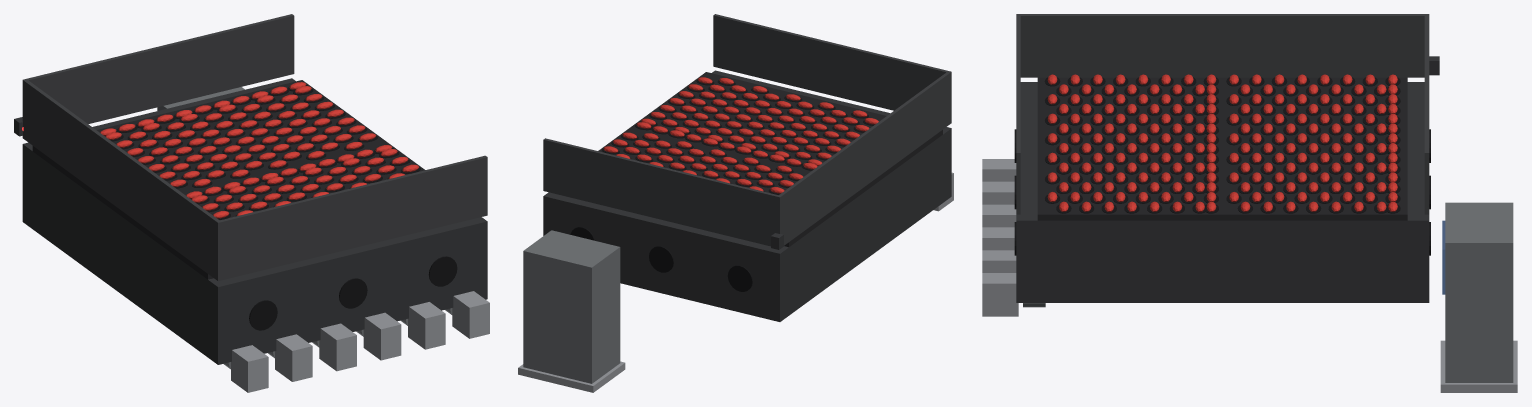
The model's file is varioroute_vr1600.glb.
The picture shows the model from 3 angles, left to right: view 1: azimuth 30°, elevation 25°; view 2: azimuth 150°, elevation 25°; view 3: azimuth 270°, elevation 25°; orthographic projection. The views are drawn at different scales.
Visible parts, largest first — view 1: VR1600_Body, VR1600_Guard_Right, VR1600_Guard_Left, VR1600_Guard_Infeed, VR1600_Deck_B, VR1600_Deck_A, VR1600_Motor.003, VR1600_Motor.002, VR1600_Motor.004, VR1600_Motor.005, VR1600_Motor.001, VR1600_Motor (+3 smaller); view 2: VR1600_Body, VR1600_Cabinet_Body, VR1600_Guard_Left, VR1600_Guard_Right, VR1600_Guard_Infeed, VR1600_Deck_A, VR1600_Deck_B, VR1600_Cabinet_Base, VR1600_Vent_+1, VR1600_Vent_+0; view 3: VR1600_Body, VR1600_Guard_Infeed, VR1600_Deck_A, VR1600_Deck_B, VR1600_Cabinet_Body, VR1600_Motor.005, VR1600_Cabinet_Base, VR1600_Guard_Left, VR1600_Guard_Right, VR1600_Motor.002, VR1600_Motor.004, VR1600_Motor.001 (+2 smaller).
Part boxes in pixels (box(x1,y1,x2,y2)): VR1600_Body: box(22, 78, 487, 364); VR1600_Guard_Right: box(216, 155, 487, 280); VR1600_Guard_Left: box(23, 14, 294, 123); VR1600_Guard_Infeed: box(22, 80, 221, 281); VR1600_Deck_B: box(32, 80, 390, 216); VR1600_Deck_A: box(118, 145, 425, 279); VR1600_Motor.003: box(363, 312, 401, 360); VR1600_Motor.002: box(319, 323, 356, 371); VR1600_Motor.004: box(408, 302, 445, 349); VR1600_Motor.005: box(452, 291, 489, 338); VR1600_Motor.001: box(275, 334, 312, 381); VR1600_Motor: box(231, 345, 268, 392); VR1600_Body: box(543, 70, 951, 321); VR1600_Cabinet_Body: box(523, 230, 620, 383); VR1600_Guard_Left: box(543, 138, 781, 246); VR1600_Guard_Right: box(713, 14, 951, 123); VR1600_Guard_Infeed: box(777, 71, 951, 245); VR1600_Deck_A: box(628, 72, 942, 189); VR1600_Deck_B: box(598, 129, 867, 247); VR1600_Cabinet_Base: box(518, 361, 625, 392); VR1600_Vent_+1: box(649, 246, 673, 272); VR1600_Vent_+0: box(727, 265, 752, 291); VR1600_Body: box(1016, 82, 1429, 302); VR1600_Guard_Infeed: box(1016, 14, 1429, 77); VR1600_Deck_A: box(1037, 77, 1226, 220); VR1600_Deck_B: box(1219, 77, 1407, 220); VR1600_Cabinet_Body: box(1445, 202, 1513, 382); VR1600_Motor.005: box(982, 273, 1018, 316); VR1600_Cabinet_Base: box(1440, 340, 1517, 392); VR1600_Guard_Left: box(1424, 14, 1429, 214); VR1600_Guard_Right: box(1016, 14, 1020, 214); VR1600_Motor.002: box(982, 204, 1016, 227); VR1600_Motor.004: box(982, 250, 1016, 272); VR1600_Motor.001: box(982, 181, 1014, 204).
Bounding box in the file's own units: 1.47 × 1.2 × 2.36.
